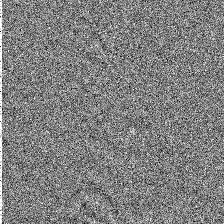cavities: (17, 57, 122, 164)
